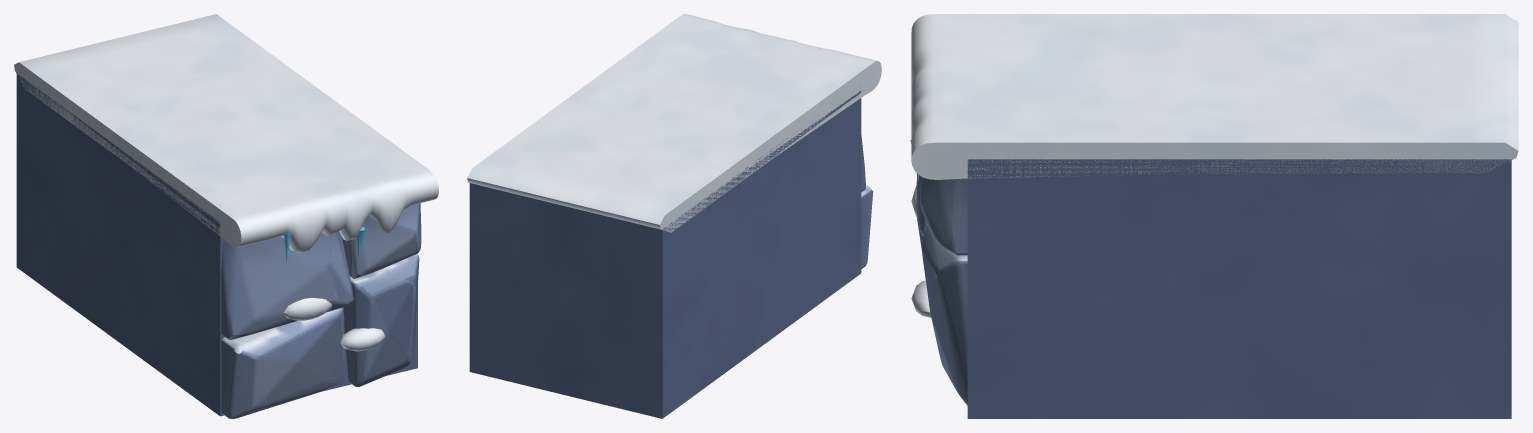
Rendered from FP_T01_SnowCliffCore_V2.fbx.
3 renders of one model, left to right at view 1: azimuth 30°, elevation 25°; view 2: azimuth 150°, elevation 25°; view 3: azimuth 270°, elevation 25°, orthographic. The views are drawn at different scales.
Parts seen in each view (by area): view 1: Rock, SnowCap; view 2: Rock, SnowCap; view 3: Rock, SnowCap.
Part boxes in pixels (x1,y1,x2,y2): Rock: (16,73,421,418); SnowCap: (14,14,438,351); Rock: (469,86,873,418); SnowCap: (467,14,881,232); Rock: (916,159,1511,418); SnowCap: (910,14,1518,317).
Bounding box in the file's own units: 2 × 2 × 3.99.
